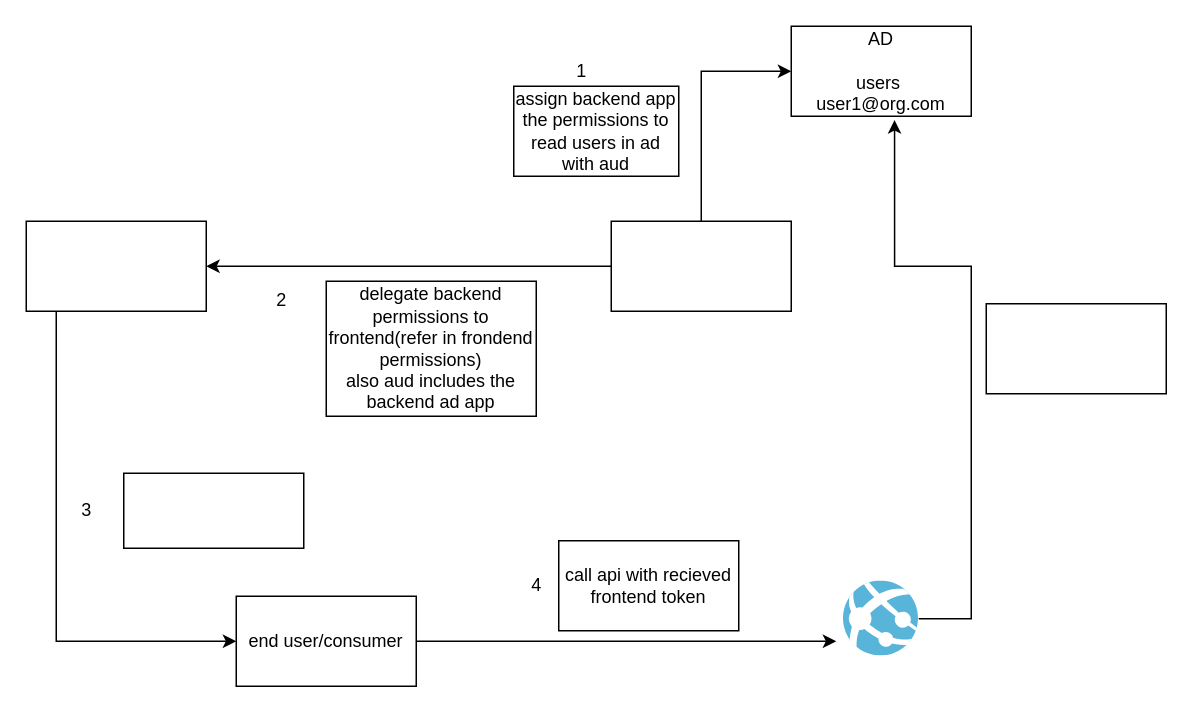
Some shapes in this 1193 by 713 pixel diagram are drawn without their labels. The shapes that lost their labels are listed below. From the top down, each one's box as (x1, y1, x2, y2) in pixels, then its label:
(25, 220, 206, 311): Frontend ad app
(610, 220, 791, 311): Backend ad app
(122, 472, 304, 548): ask for the fronend ad app token
